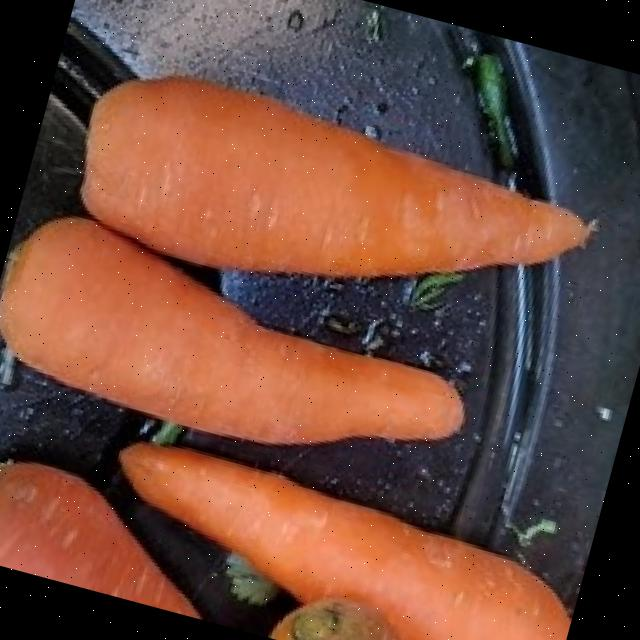carrot: (0, 213, 459, 438), (80, 72, 586, 271), (120, 439, 566, 640)
